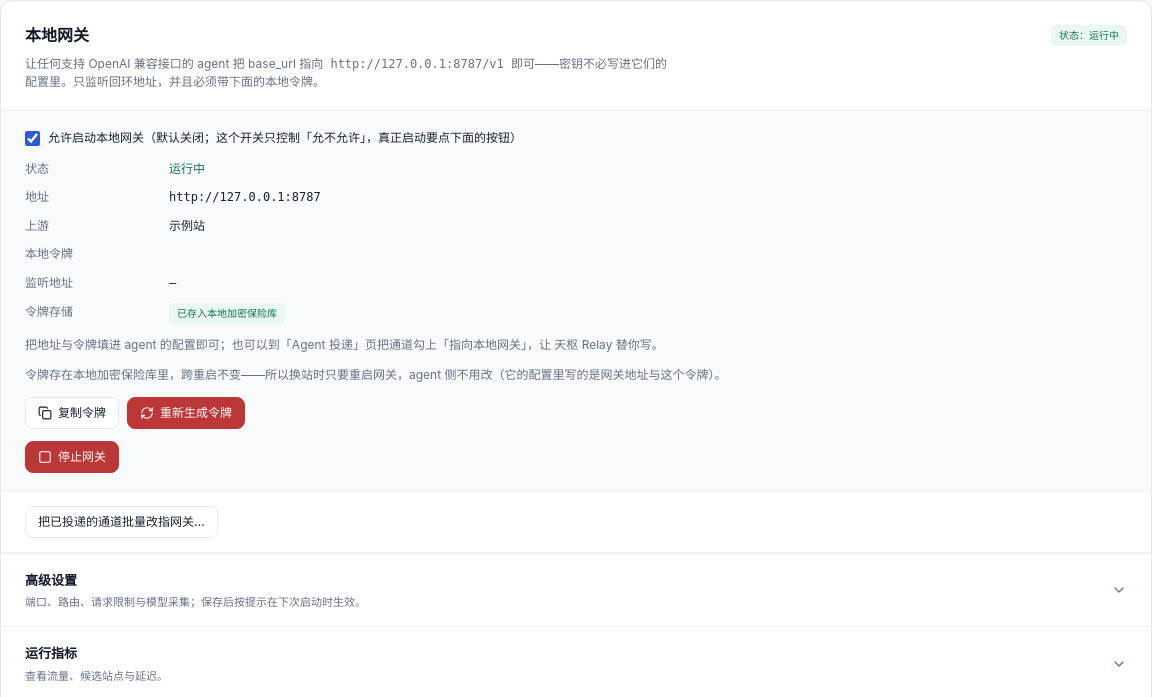
DEBUG-G6 P2-F1 批量改指：下线与未知行分流 › cline-desktop 行指向 cline auth CLI，未知行不再说“勾了也会失败”
The width and height of the screenshot is (1152, 697).
Click the button "把已投递的通道批量改指网关…".
click(121, 522)  # box top-left (25, 506), bottom-right (218, 538)
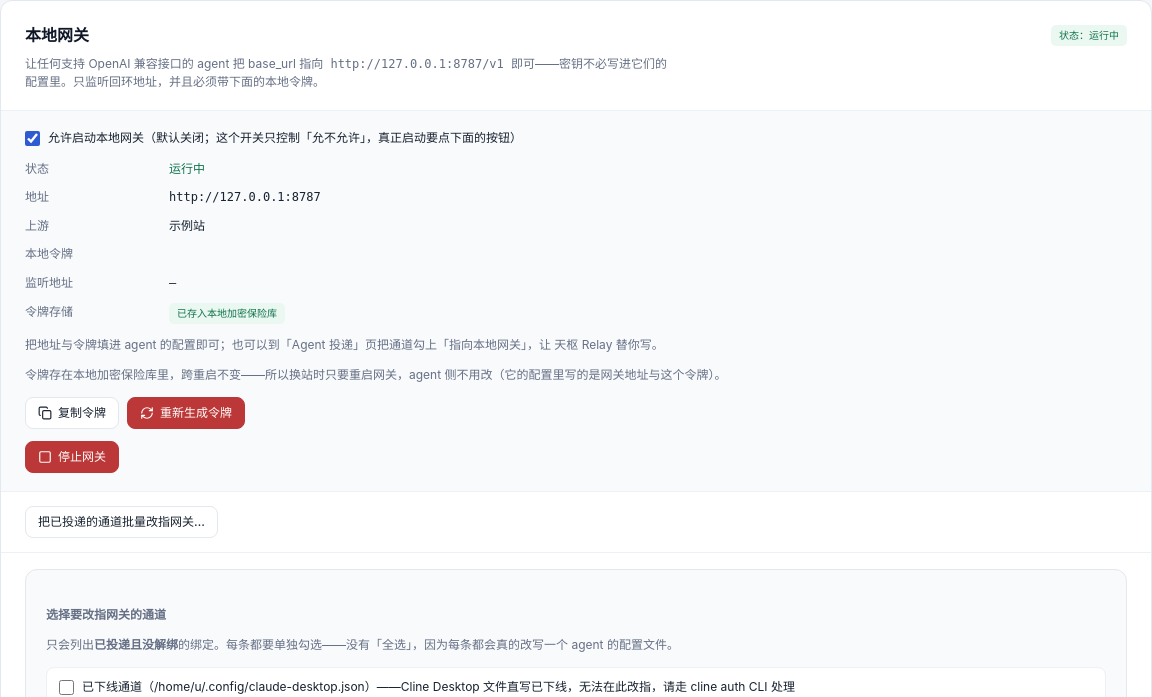
Now the text "/home/u/.config/claude-desktop.json" is shown, box top-left (154, 679), bottom-right (365, 694)
Now the text "cline auth CLI" is shown, box top-left (365, 679), bottom-right (795, 694)
Now the text "）——Cline Desktop 文件直写已下线，无法在此改指，请走 cline auth CLI 处理" is shown, box top-left (365, 679), bottom-right (795, 694)
